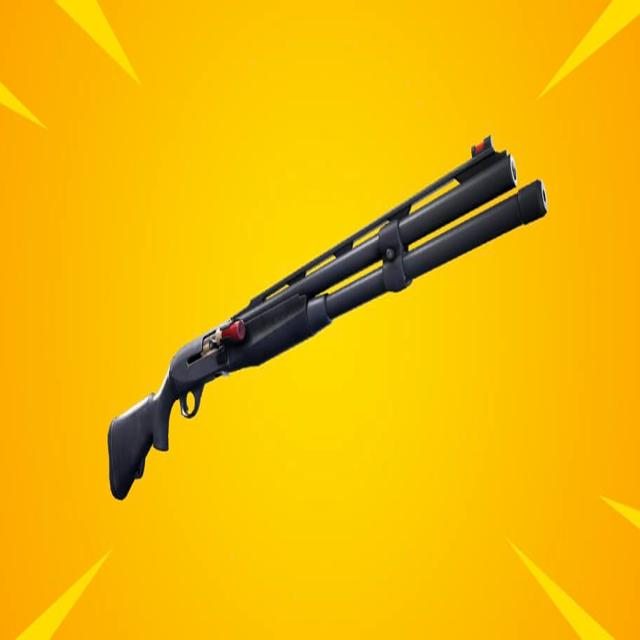ShotGun: (107, 140, 550, 501)
